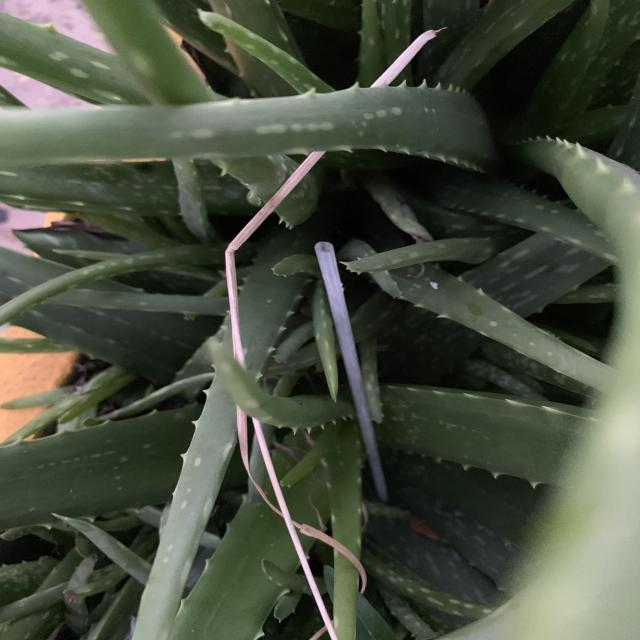litter: (315, 245, 387, 502)
